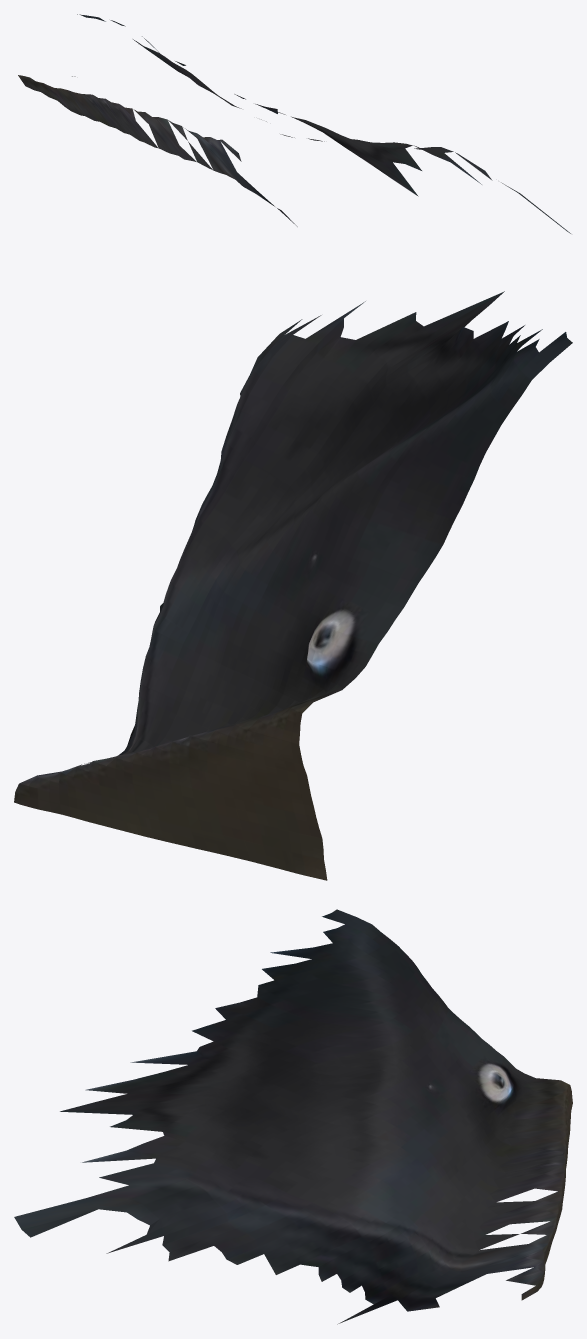
File: observed-surface.glb
The picture shows the model from 3 angles, top to bottom: view 1: azimuth 30°, elevation 25°; view 2: azimuth 150°, elevation 25°; view 3: azimuth 270°, elevation 25°; orthographic projection. The views are drawn at different scales.
Visible parts, largest first — view 1: geometry_0; view 2: geometry_0; view 3: geometry_0.
Part boxes in pixels (x1,y1,x2,y2): geometry_0: [18, 14, 570, 233]; geometry_0: [14, 291, 572, 880]; geometry_0: [14, 909, 572, 1324].
Size of the model in its own units: 0.5604 by 0.5105 by 0.8755.
1 material, 1 textured.
